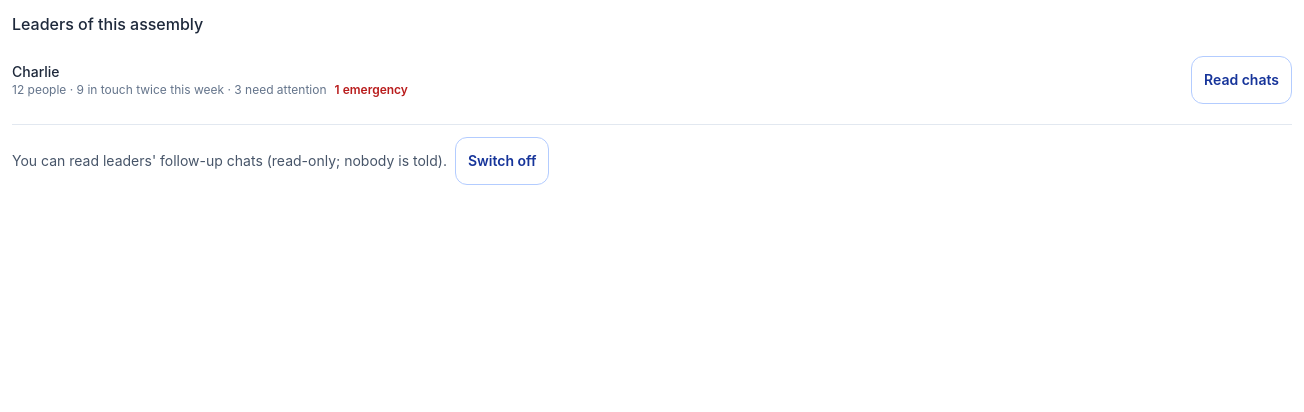
Test: LeadersOversight › lists the leaders with their numbers, then a leader's chats, then one whole conversation
Check: the text "Charlie" is shown, box x1=12 y1=63 x2=60 y2=80
Check: the text "12 people · 9 in touch twice this week · 3 need attention" is shown, box x1=12 y1=82 x2=326 y2=97
Click the button "Read chats": (1242, 80) x1=1191 y1=56 x2=1292 y2=104
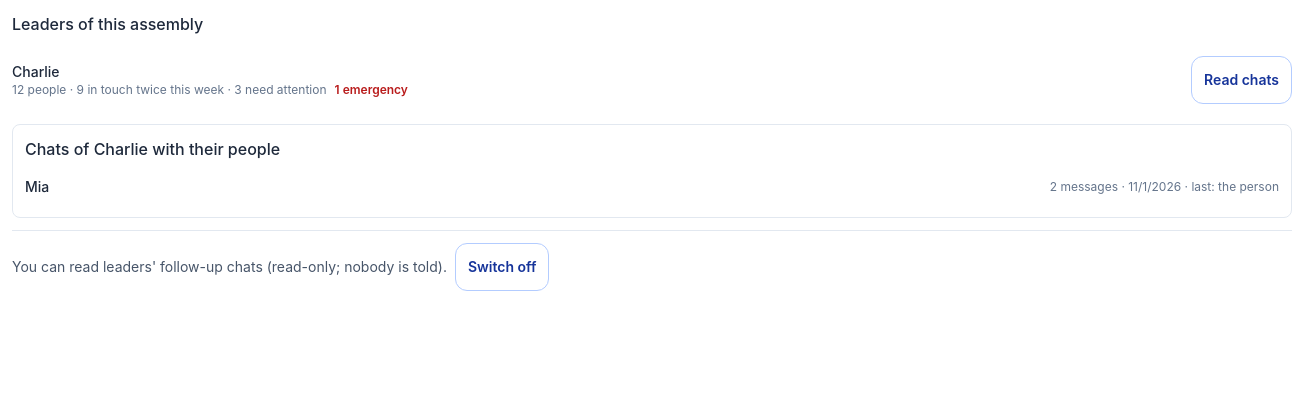
Click the text "Mia": (37, 187) x1=25 y1=177 x2=49 y2=197
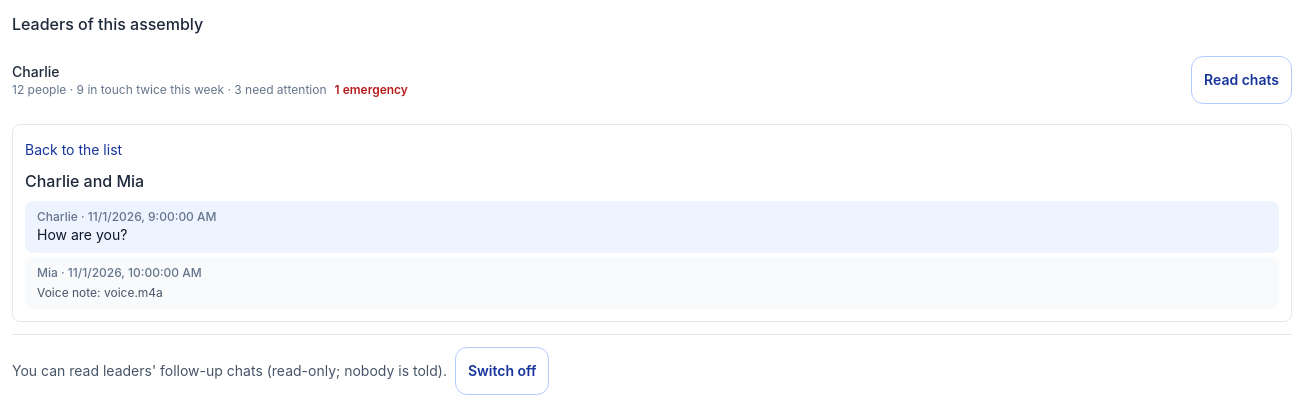
Check: the list item "How are you?" is shown, box x1=37 y1=226 x2=127 y2=243
Check: the text "Voice note: voice.m4a" is shown, box x1=37 y1=285 x2=163 y2=300
